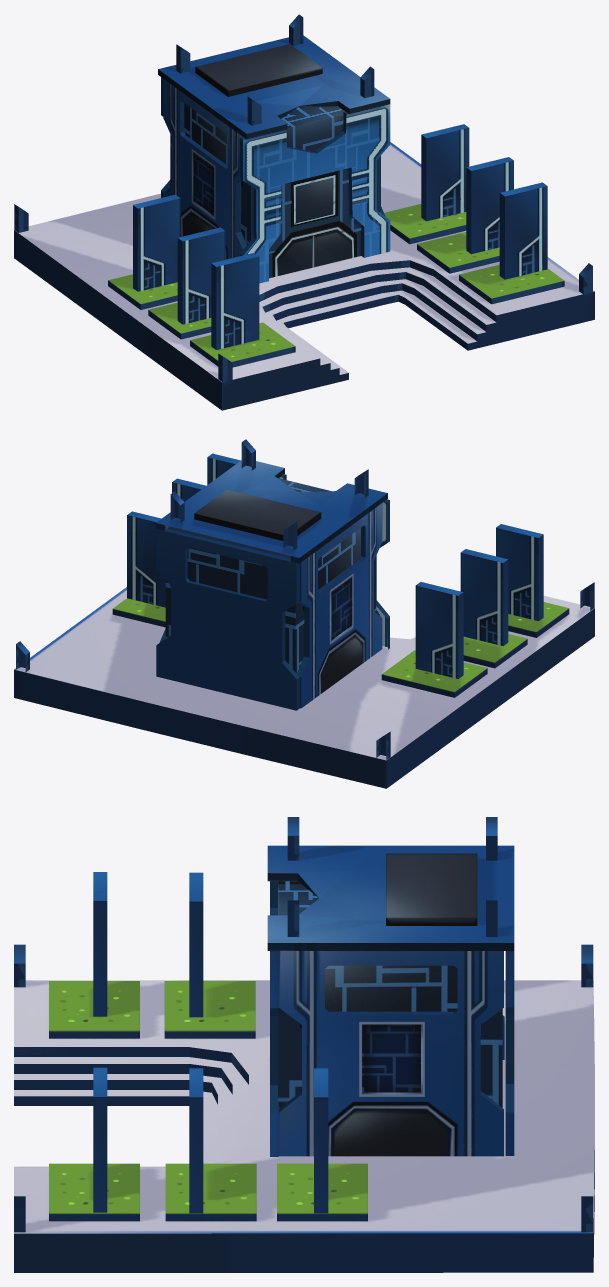
Rendered from Blue_T2.fbx.
The picture shows the model from 3 angles, top to bottom: view 1: azimuth 30°, elevation 25°; view 2: azimuth 150°, elevation 25°; view 3: azimuth 270°, elevation 25°; orthographic projection. The views are drawn at different scales.
Visible parts, largest first — view 1: polySurface51, polySurface60, polySurface67, polySurface63, polySurface66, polySurface49, polySurface50, Box058, Box051, Box066, Box052, Box059 (+6 smaller); view 2: polySurface51, polySurface65, polySurface66, polySurface63, polySurface60, Box051, Box052, Box066, polySurface50, Box058, Box064, Box063 (+5 smaller); view 3: polySurface51, polySurface58, polySurface63, polySurface60, Box066, Box063, Box062, Box060, Box061, Box044, polySurface49, Box058 (+5 smaller).
Part boxes in pixels (x1,y1,x2,y2): polySurface51: (14,142,594,410); polySurface60: (170,103,380,278); polySurface67: (239,105,390,283); polySurface63: (158,35,390,139); polySurface66: (163,79,246,259); polySurface49: (499,182,547,279); polySurface50: (211,253,259,349); Box058: (421,124,469,221); Box051: (133,194,180,291); Box066: (195,44,322,96); Box052: (177,227,225,324); Box059: (466,157,513,254); polySurface51: (14,587,594,788); polySurface65: (156,528,299,710); polySurface66: (297,503,382,708); polySurface63: (155,460,387,563); polySurface60: (165,478,376,673); Box051: (415,582,463,678); Box052: (460,549,508,645); Box066: (194,489,321,540); polySurface50: (496,524,543,621); Box058: (127,511,165,607); Box064: (381,650,487,697); Box063: (463,634,527,668); polySurface51: (14,980,594,1272); polySurface58: (278,951,503,1156); polySurface63: (267,845,514,950); polySurface60: (278,881,502,1108); Box066: (386,853,477,925); Box063: (164,981,255,1038); Box062: (49,981,139,1038); Box060: (165,1163,256,1221); Box061: (49,1163,139,1221); Box044: (277,1163,367,1221); polySurface49: (93,1067,107,1212); Box058: (314,1068,328,1213).
Bounding box in the file's own units: 84.38 × 45 × 81.83.
Materials: 2 (2 with a texture image).
